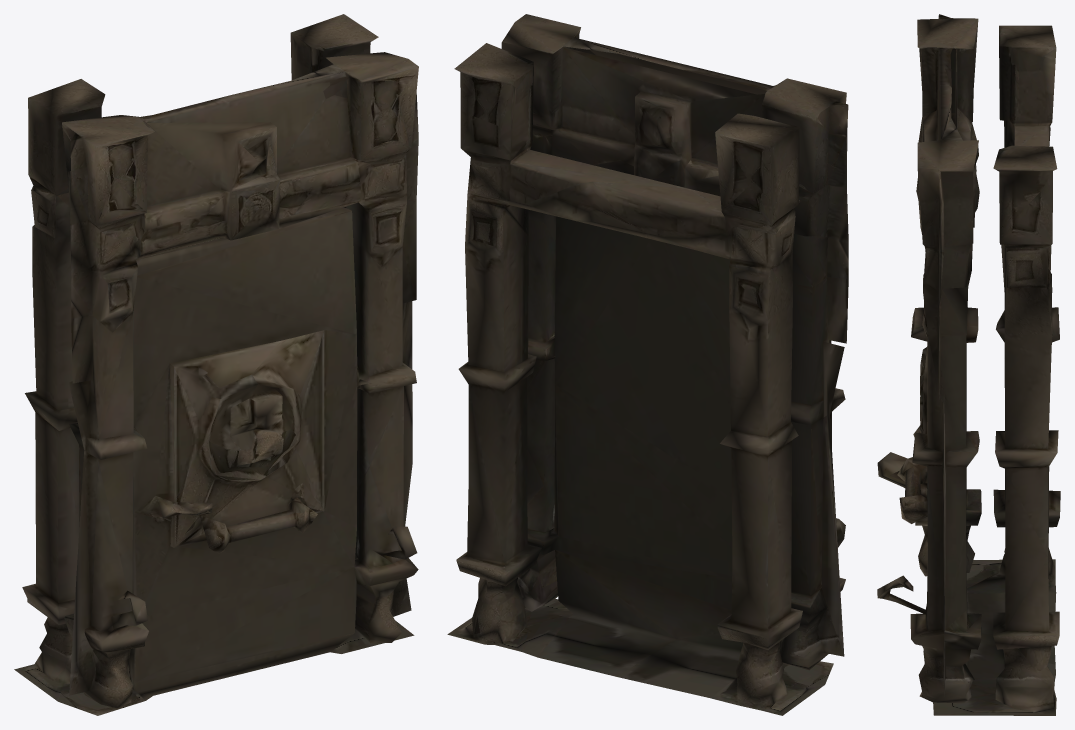
File: door_slab.glb
3 renders of one model, left to right at view 1: azimuth 30°, elevation 25°; view 2: azimuth 150°, elevation 25°; view 3: azimuth 270°, elevation 25°, orthographic. The views are drawn at different scales.
Bounding box in the file's own units: 1.2 × 1.9 × 0.5783.
Materials: 1 (1 with a texture image).
